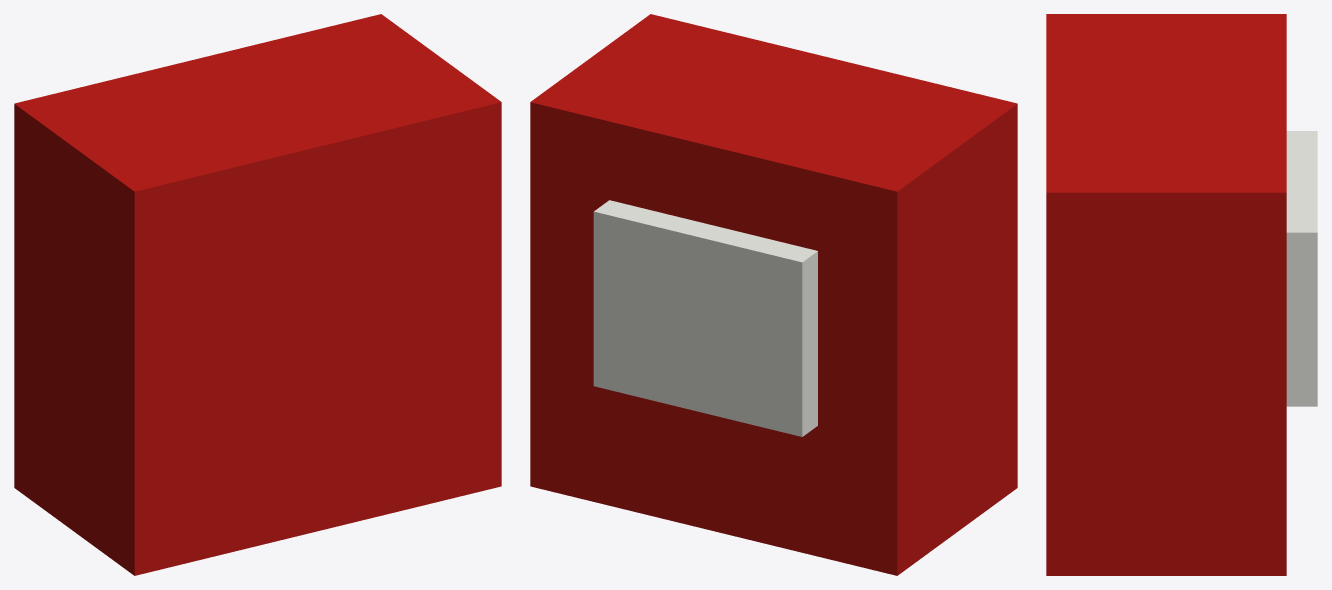
The model's file is services.device.call_point.glb.
3 renders of one model, left to right at view 1: azimuth 30°, elevation 25°; view 2: azimuth 150°, elevation 25°; view 3: azimuth 270°, elevation 25°, orthographic.
Parts seen in each view (by area): view 1: main__plastic_red; view 2: main__plastic_red, main__paint_white; view 3: main__plastic_red, main__paint_white.
Boxes of the visible parts, <box> form: main__plastic_red: <box>14,14,501,575</box>; main__plastic_red: <box>530,14,1017,575</box>; main__paint_white: <box>593,200,817,436</box>; main__plastic_red: <box>1046,14,1286,575</box>; main__paint_white: <box>1286,131,1317,406</box>.
Size of the model in its own units: 0.088 by 0.088 by 0.0565.
